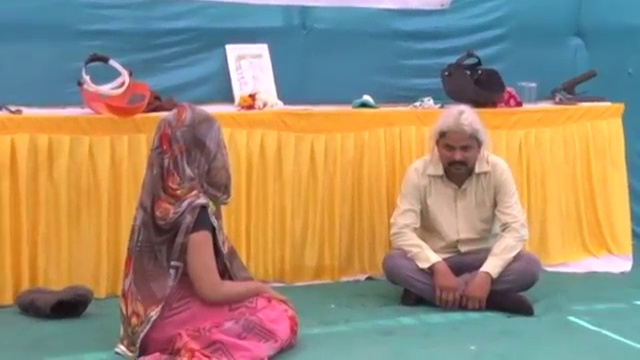helmet_off: (148, 105, 230, 204), (431, 105, 484, 185)
person: (115, 102, 298, 360), (381, 102, 544, 319)
